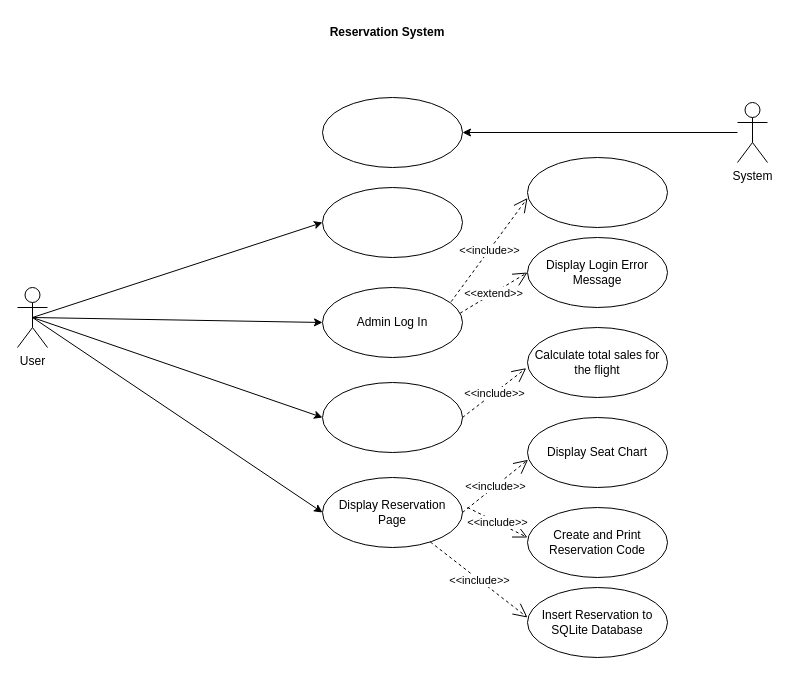
The diagram is 790 pixels wide and 675 high, and some of its shapes have lost their labels. The shapes that lost their labels are listed below. From the top down, each one's centre as x and y in pixels, then its label:
At (392,132): "Create Seating Chart/Load Initial Reservations".
At (597,192): "Validate Credentials".
At (392,222): "Display Main Menu".
At (392,417): "Display Admin Page".
